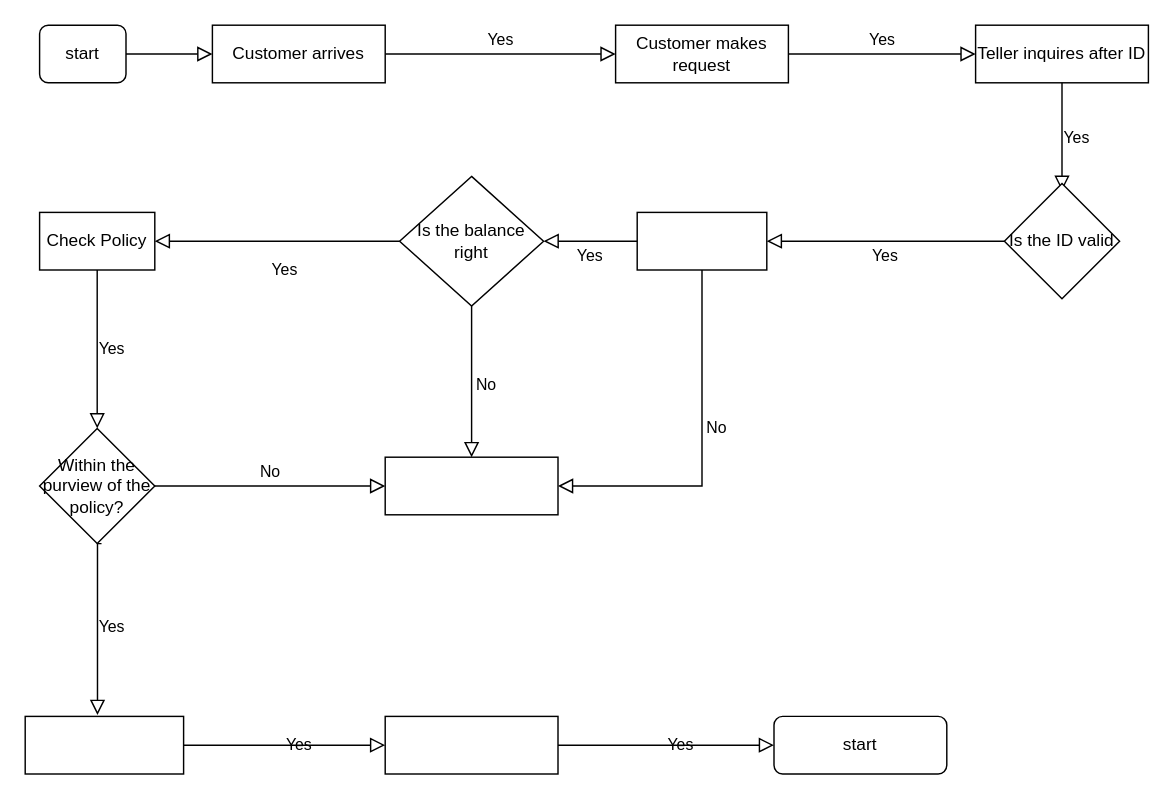
The diagram is 1174 pixels wide and 799 high, and some of its shapes have lost their labels. The shapes that lost their labels are listed below. From the top down, each one's centre as x and y in pixels, then its label:
At point 701,240: "check the balance".
At point 471,485: "Reject".
At point 104,744: "Log transaction".
At point 471,744: "Give cash to client".
